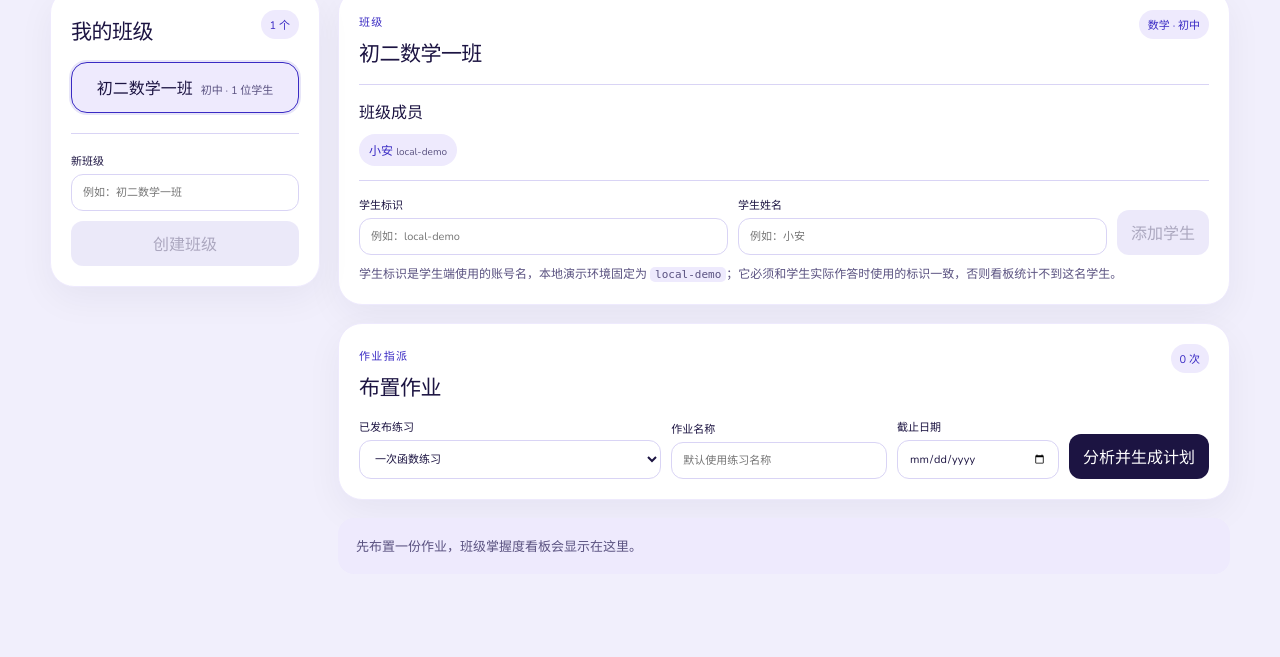
Test: TeacherClassroomApp › reviews a class-level personalized assignment before confirming it
(page scrolled)
Click the button "分析并生成计划".
click(1139, 456)  # box [1069,434,1209,479]
(page scrolled)
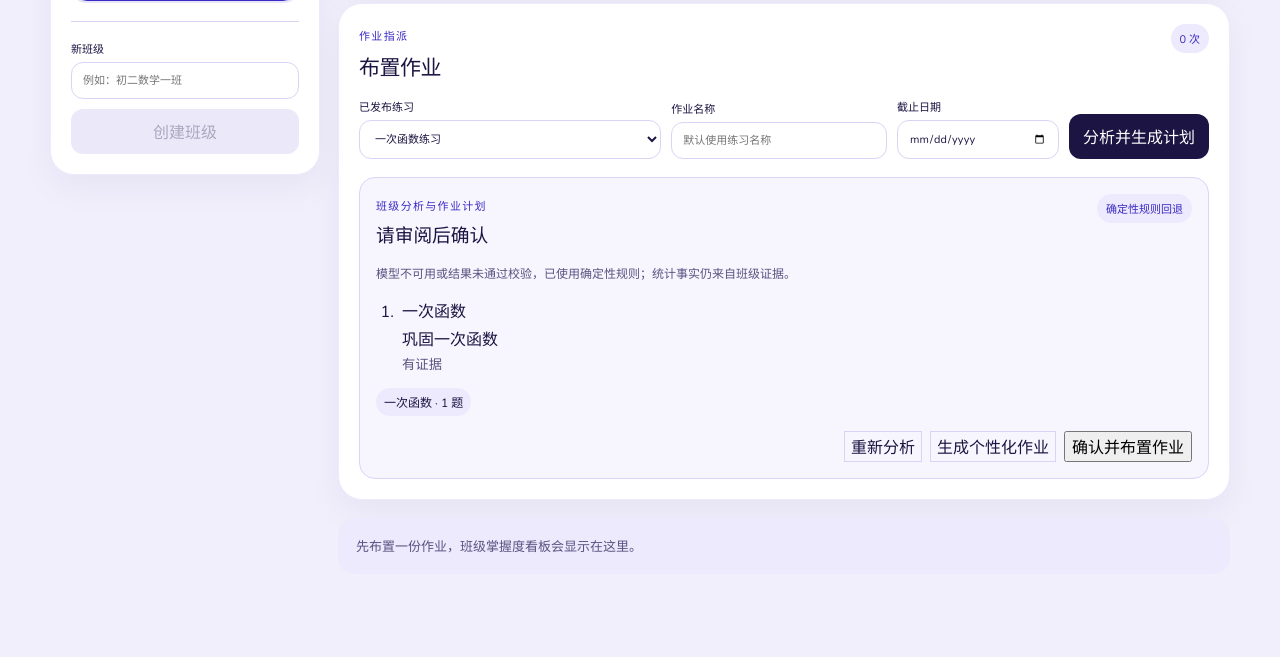
Click the button "生成个性化作业".
click(993, 446)  # box [930,431,1056,462]
(page scrolled)
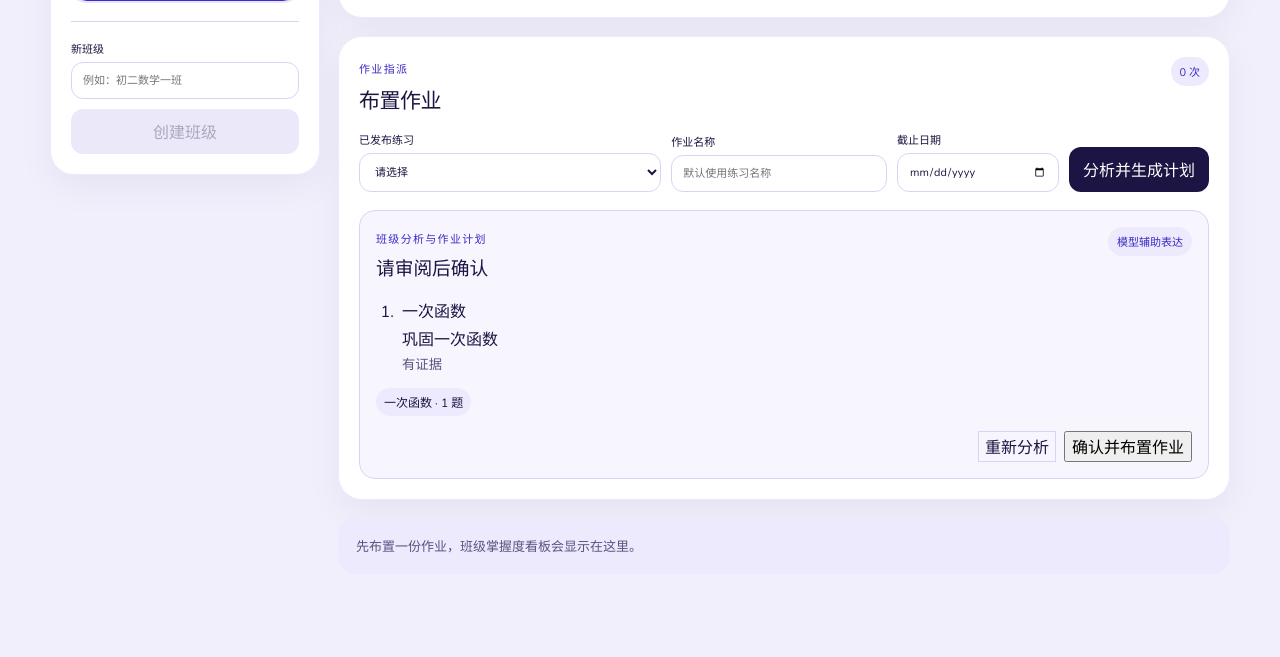
Expected: the button "生成个性化作业" is gone
